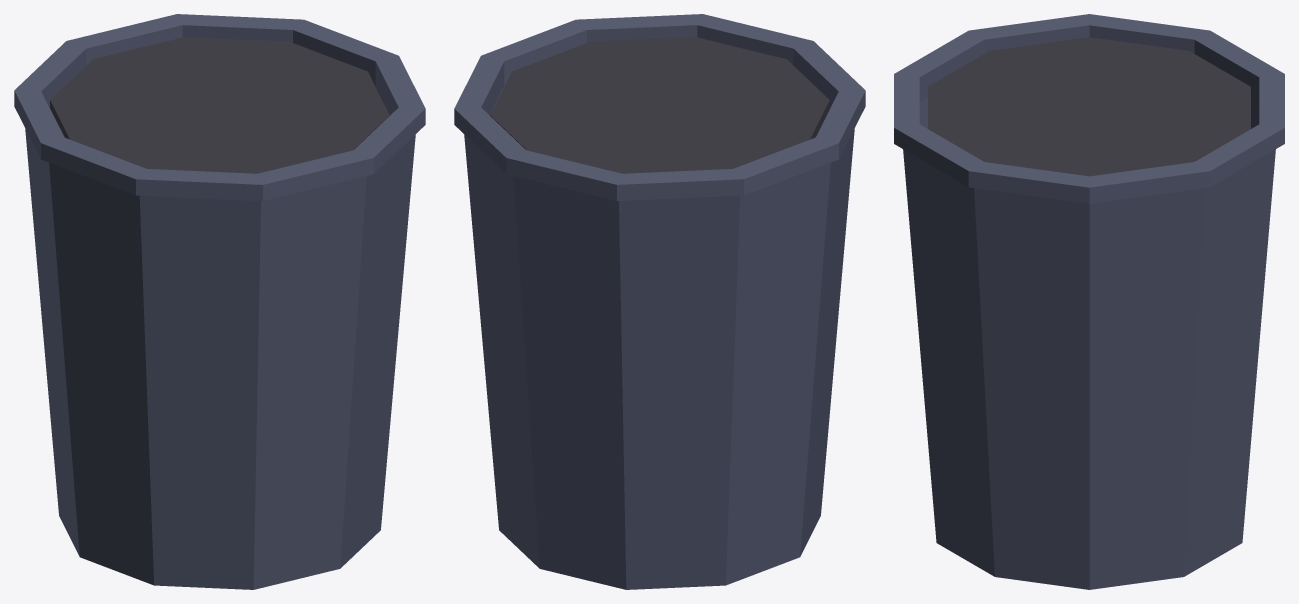
File: bin.glb
3 renders of one model, left to right at view 1: azimuth 30°, elevation 25°; view 2: azimuth 150°, elevation 25°; view 3: azimuth 270°, elevation 25°, orthographic.
Visible parts, largest first — view 1: bin; view 2: bin; view 3: bin.
Part boxes in pixels (x1,y1,x2,y2): bin: (14,14,425,589); bin: (454,14,865,589); bin: (894,14,1284,589).
Bounding box in the file's own units: 0.46 × 0.52 × 0.4375.
1 material, 1 textured.
